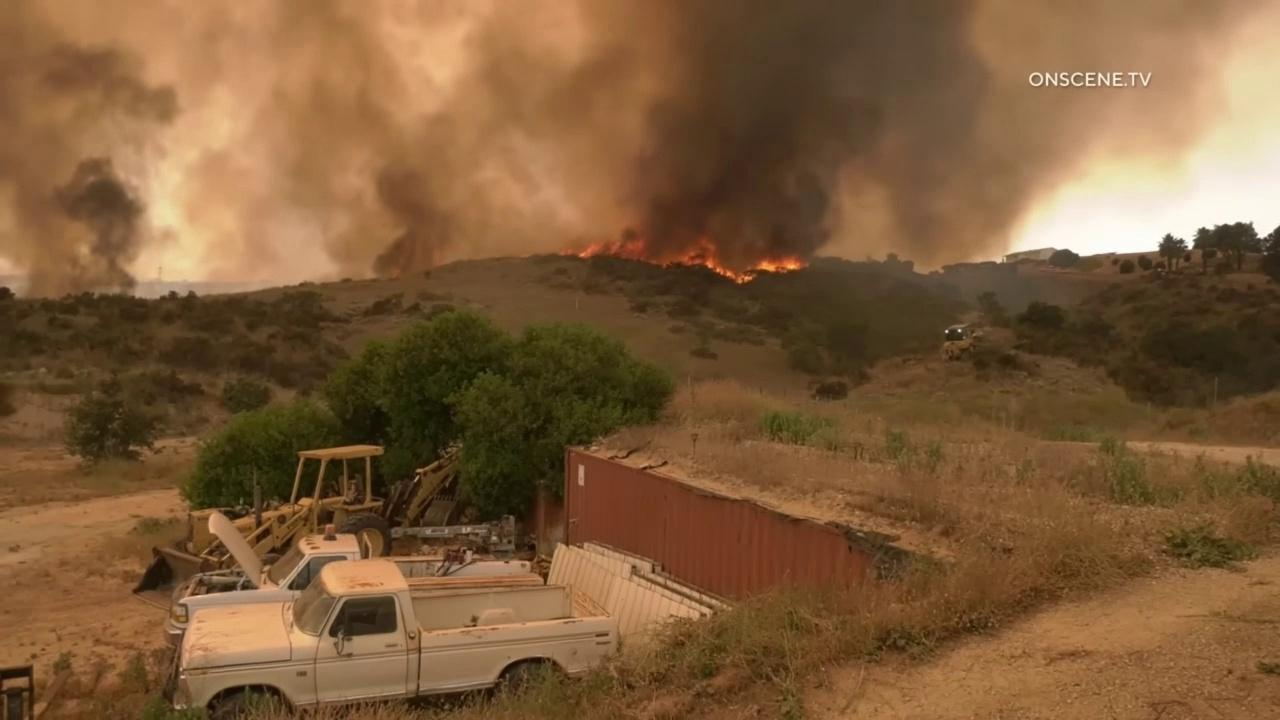fire: (578, 226, 813, 285), (557, 247, 575, 257)
smoke: (0, 0, 1280, 297)
